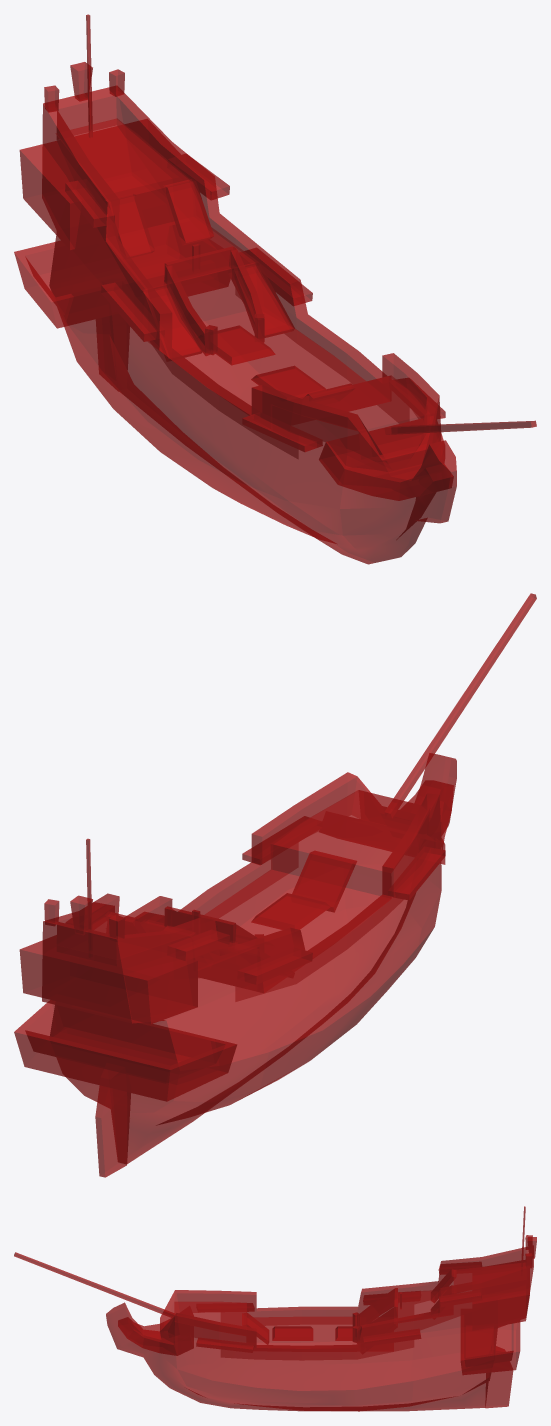
The model's file is SM_Veh_Boat_Warship_01_Hull_Pirate_Upsized_Collision.fbx.
The picture shows the model from 3 angles, top to bottom: view 1: azimuth 30°, elevation 25°; view 2: azimuth 150°, elevation 25°; view 3: azimuth 270°, elevation 25°; orthographic projection. The views are drawn at different scales.
Parts seen in each view (by area): view 1: SM_Veh_Boat_Warship_01_Hull_Pirate_Upsized_Collision; view 2: SM_Veh_Boat_Warship_01_Hull_Pirate_Upsized_Collision; view 3: SM_Veh_Boat_Warship_01_Hull_Pirate_Upsized_Collision.
Boxes of the visible parts, <box> form: SM_Veh_Boat_Warship_01_Hull_Pirate_Upsized_Collision: <box>14,14,536,564</box>; SM_Veh_Boat_Warship_01_Hull_Pirate_Upsized_Collision: <box>14,593,536,1177</box>; SM_Veh_Boat_Warship_01_Hull_Pirate_Upsized_Collision: <box>14,1206,536,1411</box>.
Size of the model in its own units: 1399 by 2553 by 5948.
